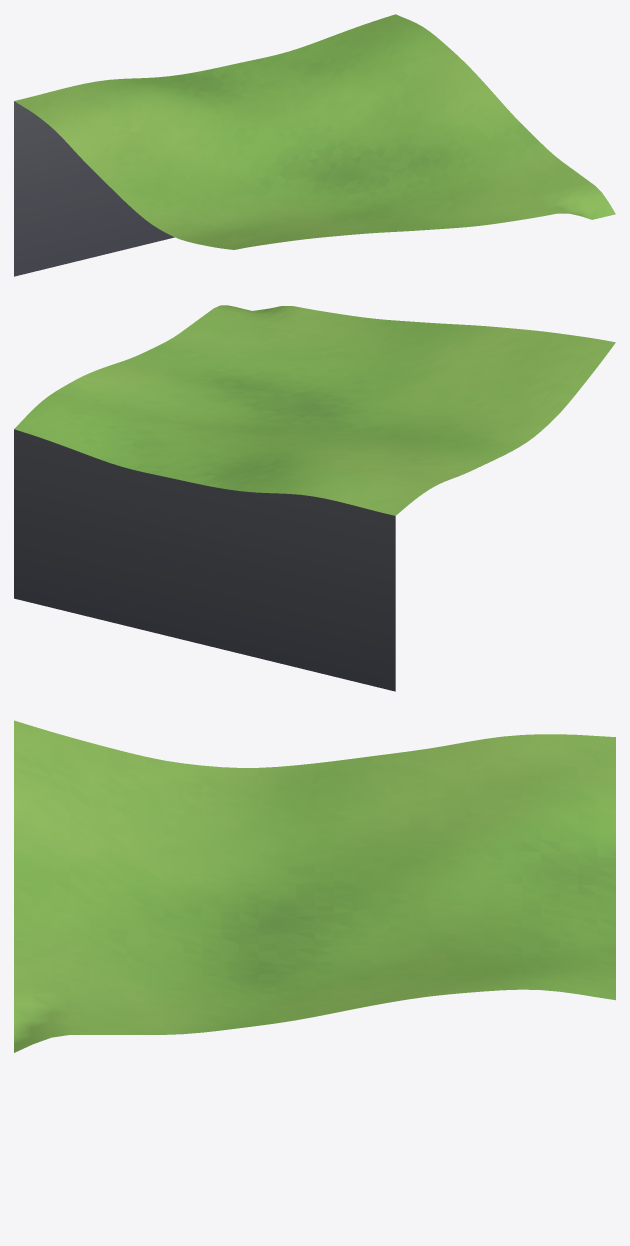
File: terrain_r5_c1.glb
3 views of the same model, one above another, from view 1: azimuth 30°, elevation 25°; view 2: azimuth 150°, elevation 25°; view 3: azimuth 270°, elevation 25° (orthographic). The views are drawn at different scales.
Parts seen in each view (by area): view 1: terrain_r5_c1; view 2: terrain_r5_c1; view 3: terrain_r5_c1.
Boxes of the visible parts, x1,y1,x2,y2 form: terrain_r5_c1: (14, 14, 615, 276); terrain_r5_c1: (14, 305, 615, 691); terrain_r5_c1: (14, 720, 615, 1052).
Bounding box in the file's own units: 128 × 60.24 × 128.
Materials: 1 (1 with a texture image).
